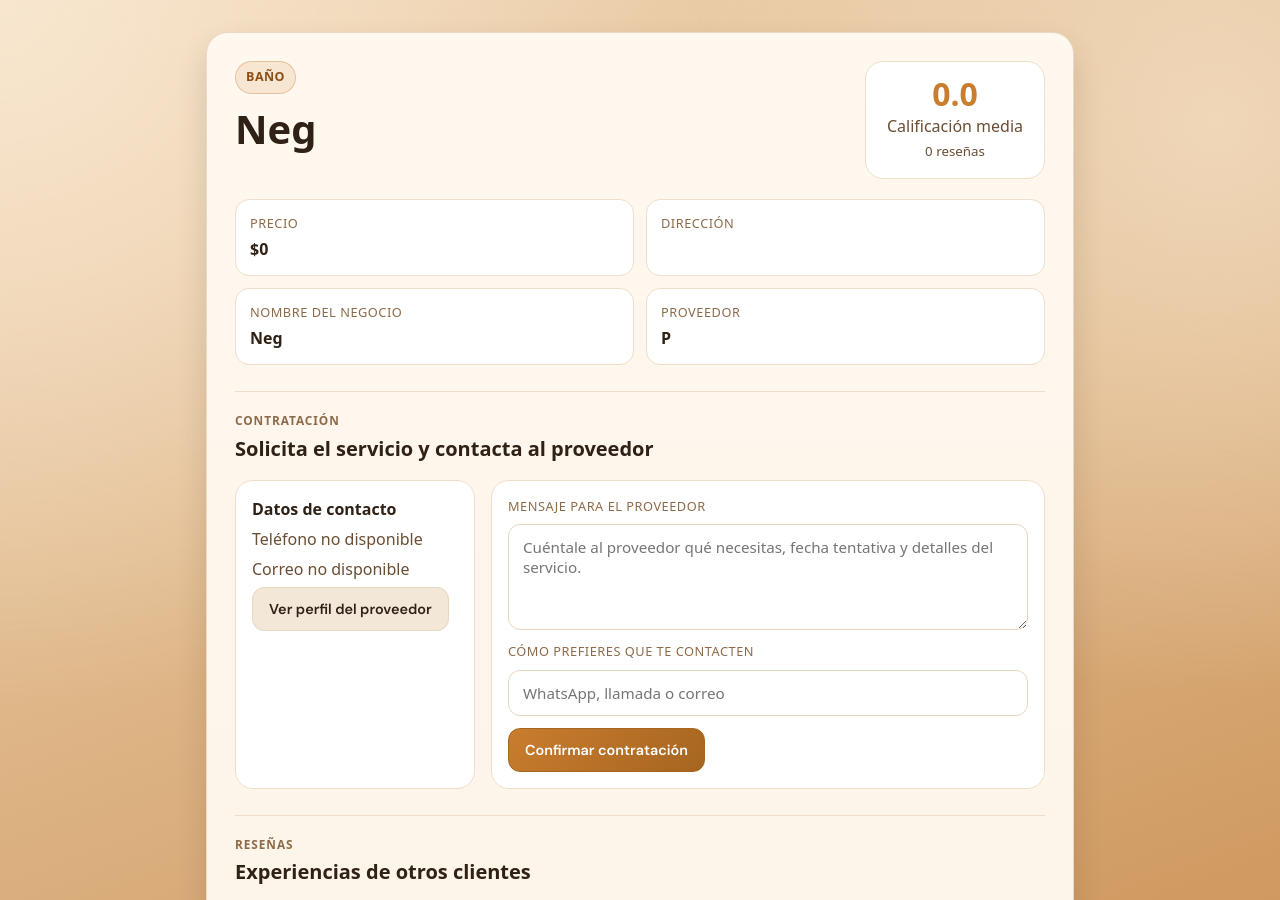
Scenario: ServiceDetail flows › user can create a solicitud and see success message
Replace the text in the text box with placeholder "Cuéntale al proveedor qué necesitas, fecha tentativa y detalles del servicio." with "Necesito un baño el viernes": (768, 577) [508, 524, 1028, 630]
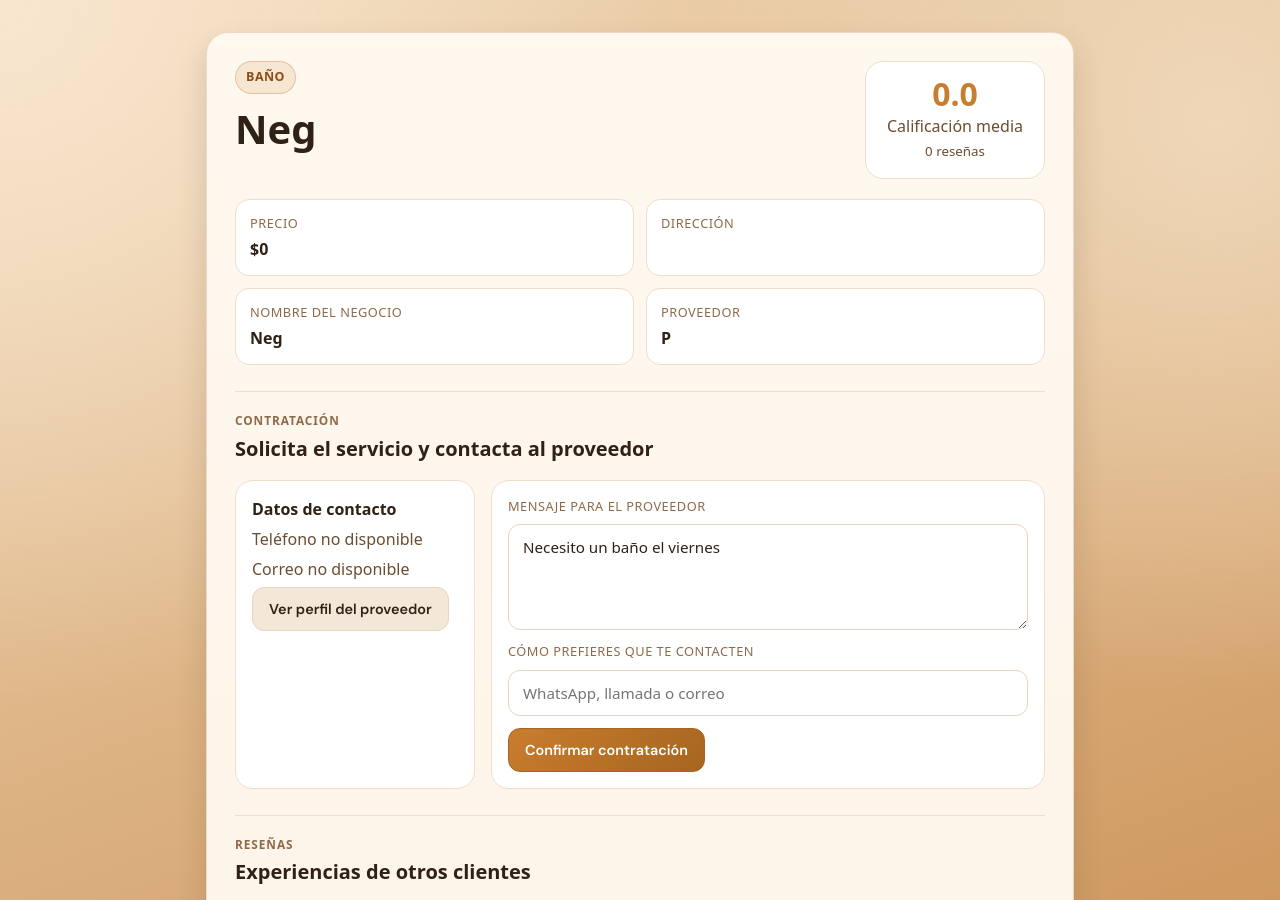
In the field with placeholder "WhatsApp, llamada o correo": (768, 692) [508, 670, 1028, 716], type "WhatsApp"
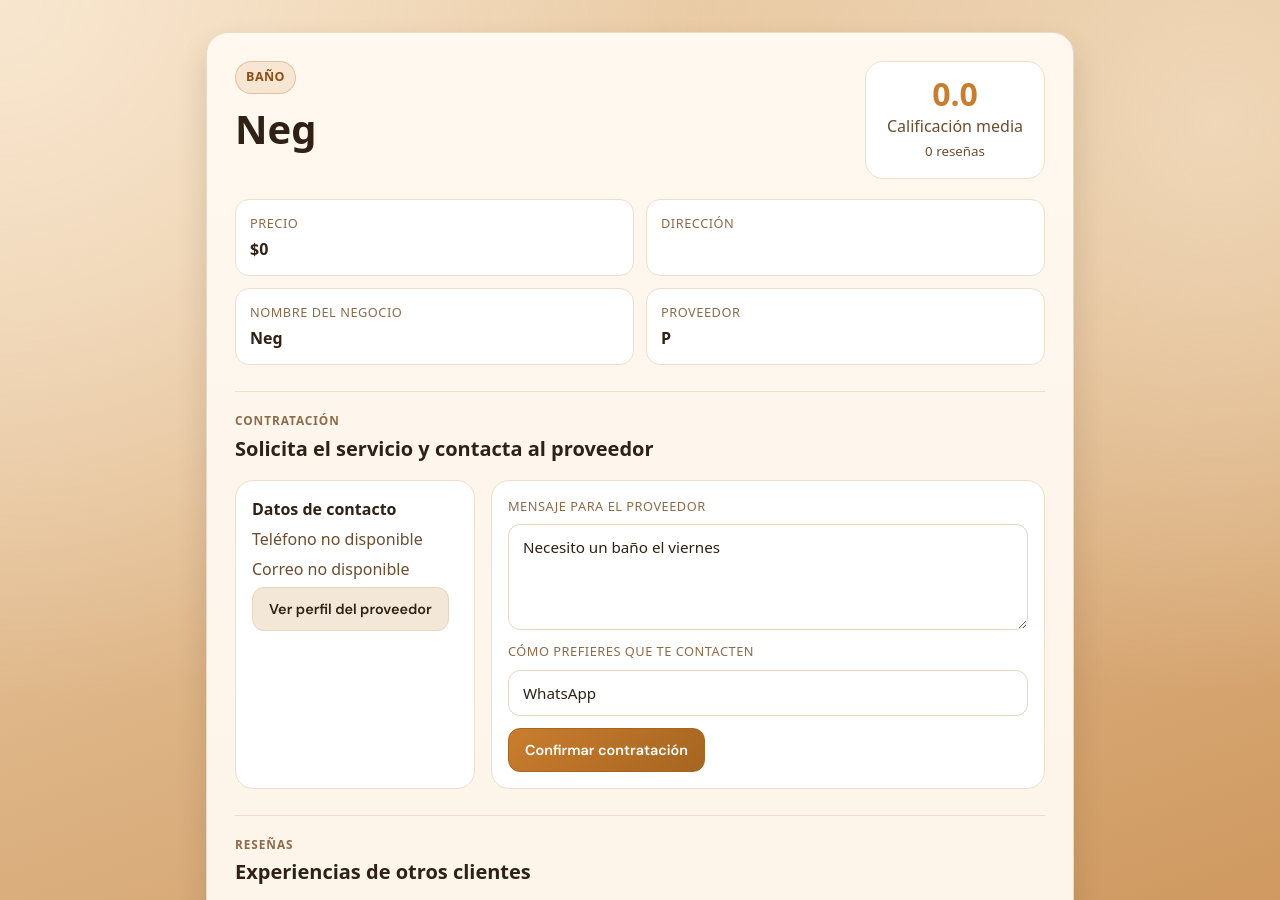
Click the button "Confirmar contratación": (606, 750) [508, 728, 705, 772]
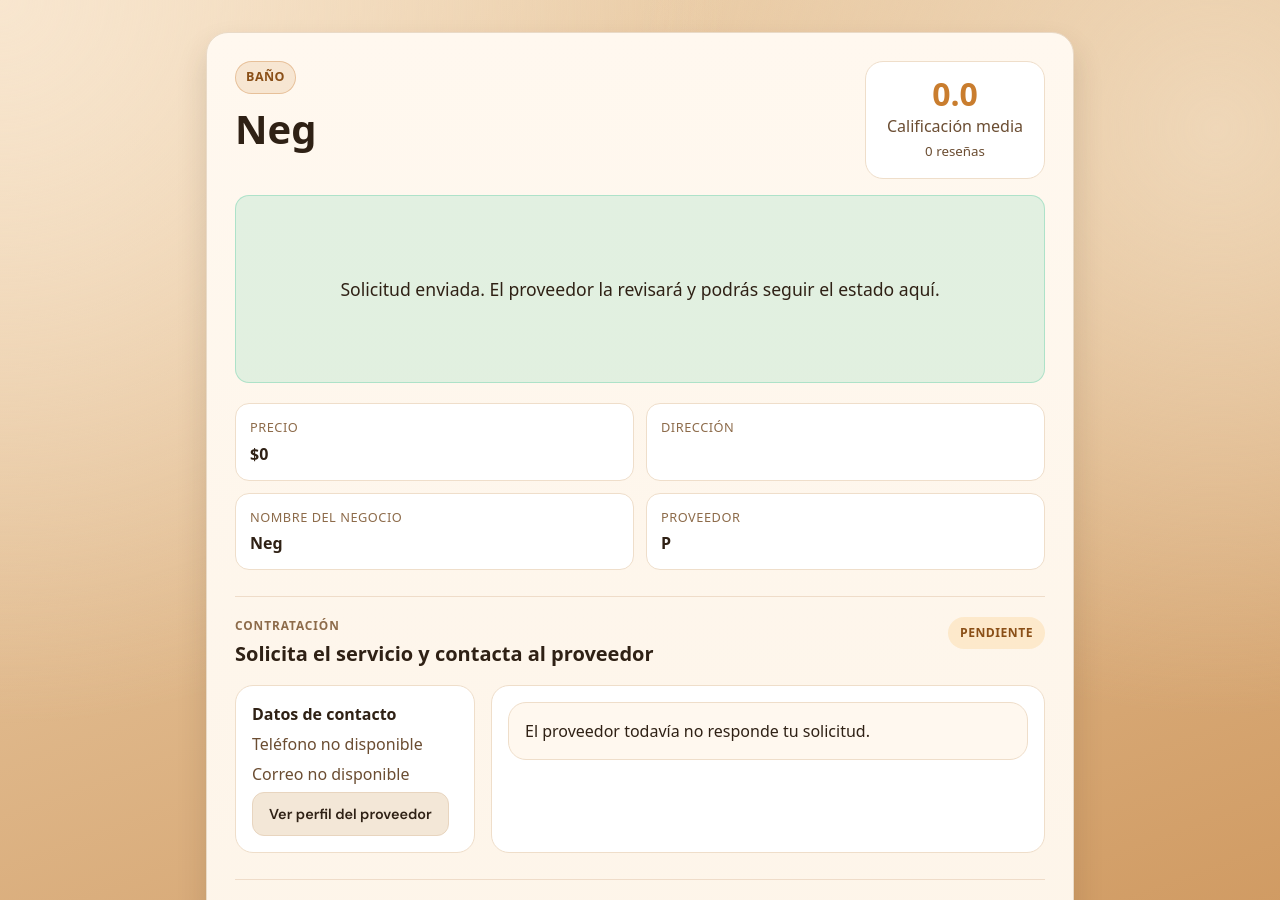
Expected: the text "Solicitud enviada" is shown, [340, 277, 940, 301]
